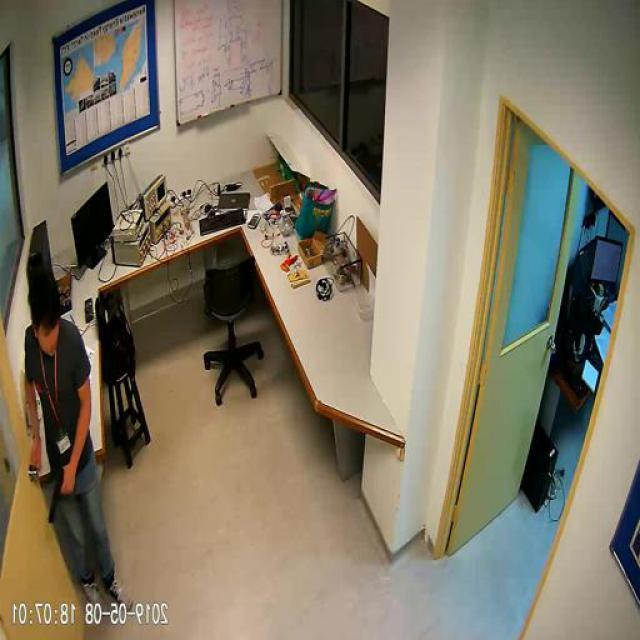Gun: (50, 462, 79, 524)
